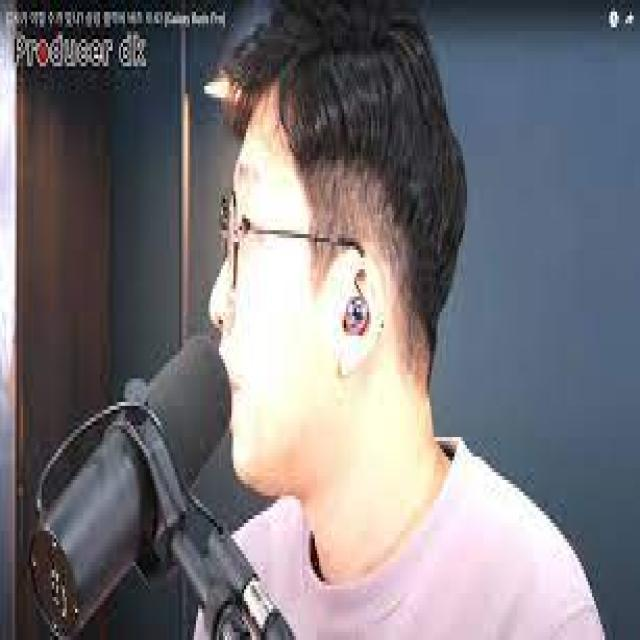earphone: (328, 255, 388, 345)
